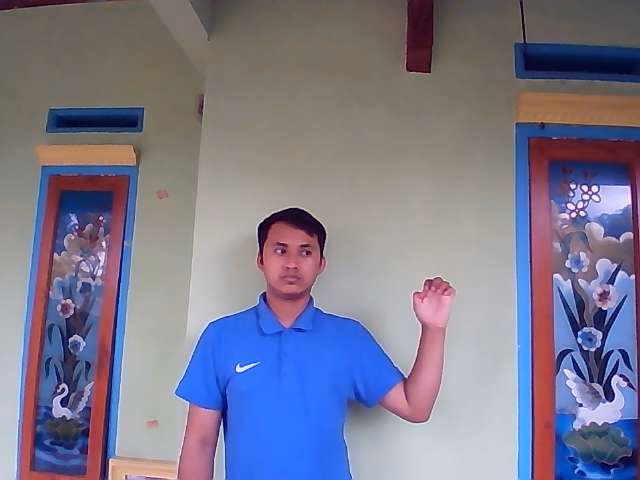E: (410, 275, 457, 328)
